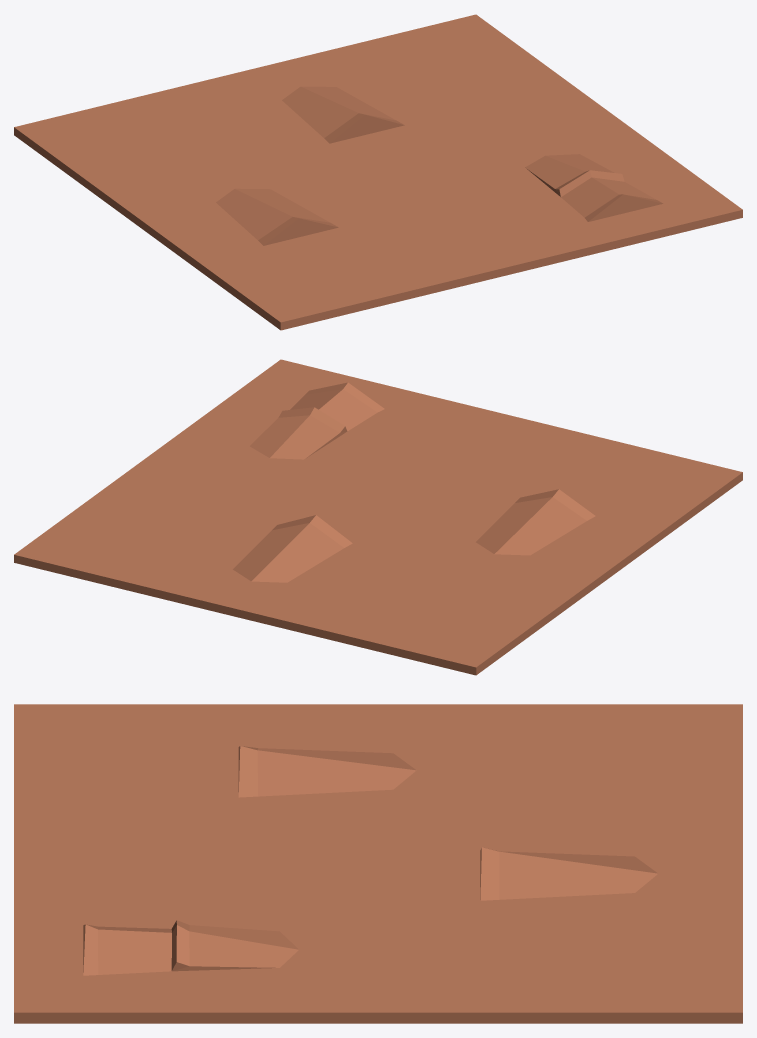
The model's file is empire-roof-inner-3x3m-empire.glb.
3 views of the same model, one above another, from view 1: azimuth 30°, elevation 25°; view 2: azimuth 150°, elevation 25°; view 3: azimuth 270°, elevation 25° (orthographic). The views are drawn at different scales.
Parts seen in each view (by area): view 1: SM_Roof_Inner_3x3m_Empire; view 2: SM_Roof_Inner_3x3m_Empire; view 3: SM_Roof_Inner_3x3m_Empire.
Boxes of the visible parts, left/top/right/bottom form: SM_Roof_Inner_3x3m_Empire: left=14, top=14, right=742, bottom=330; SM_Roof_Inner_3x3m_Empire: left=14, top=359, right=742, bottom=675; SM_Roof_Inner_3x3m_Empire: left=14, top=704, right=742, bottom=1023.
Size of the model in its own units: 3 by 0.1751 by 3.
